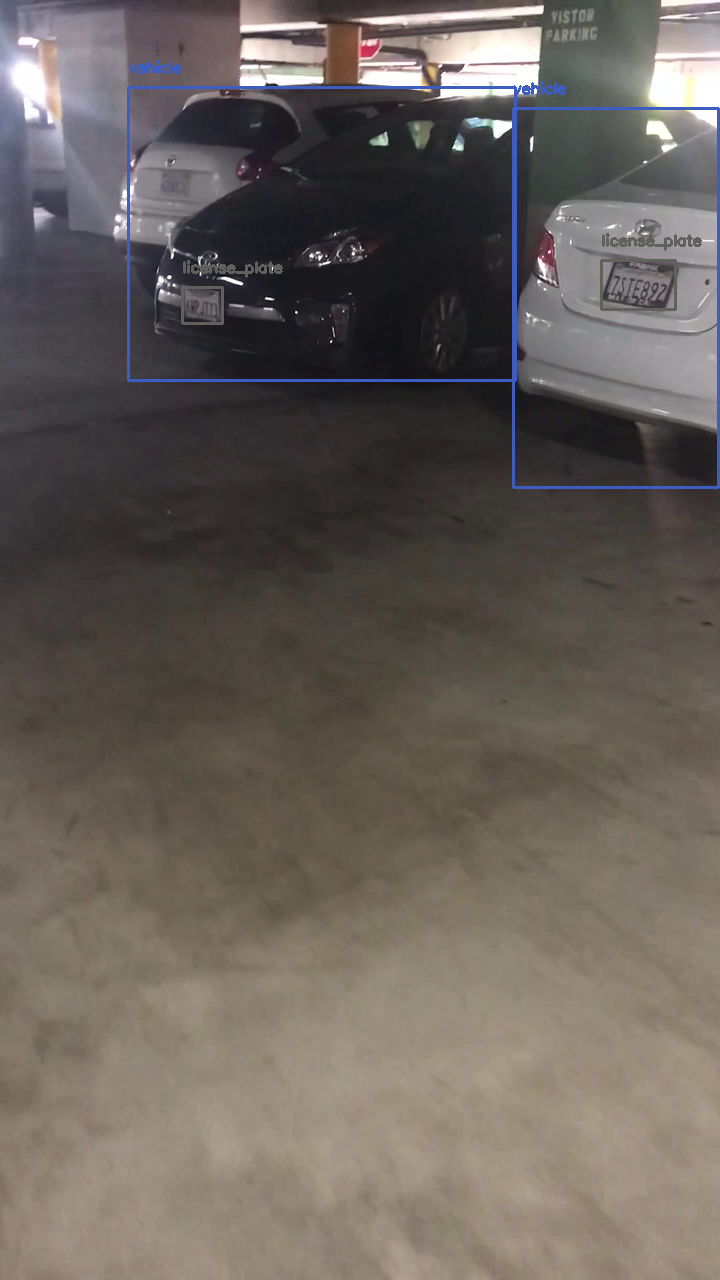license_plate: (601, 260, 675, 309), (182, 287, 222, 323)
vehicle: (128, 87, 515, 380), (513, 108, 718, 487)
